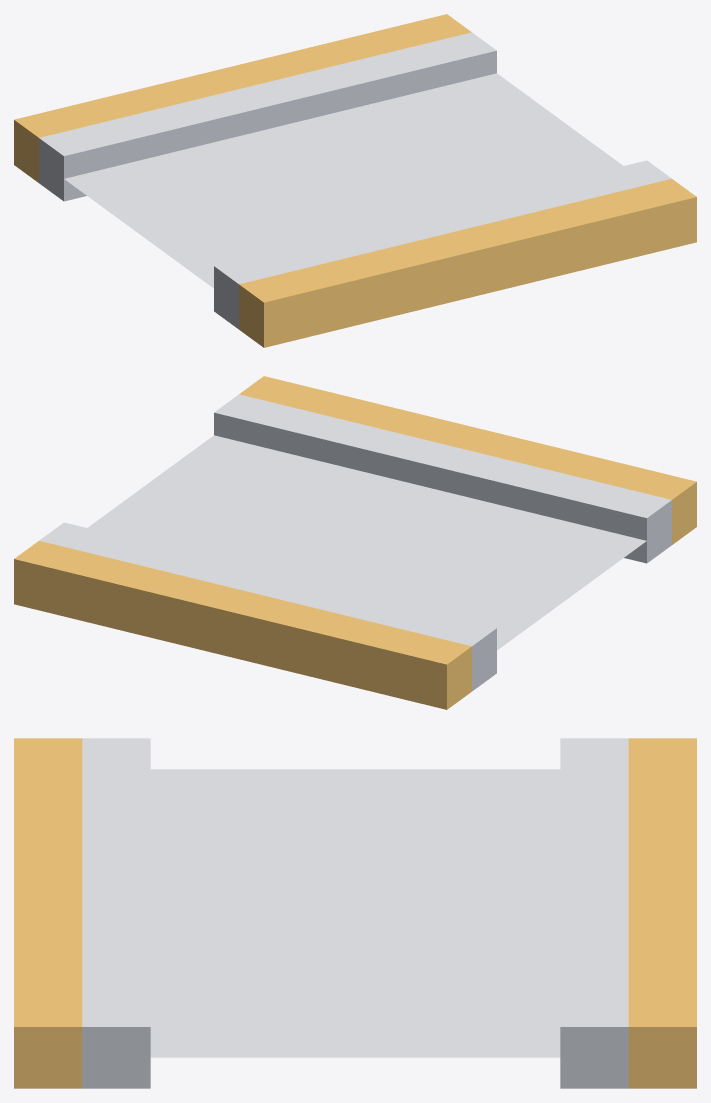
File: platform_straight.glb
3 views of the same model, one above another, from view 1: azimuth 30°, elevation 25°; view 2: azimuth 150°, elevation 25°; view 3: azimuth 270°, elevation 25° (orthographic). The views are drawn at different scales.
Visible parts, largest first — view 1: platform_straight; view 2: platform_straight; view 3: platform_straight.
Part boxes in pixels (x1,y1,x2,y2): platform_straight: (14,14,696,347); platform_straight: (14,376,696,709); platform_straight: (14,738,696,1088).
Size of the model in its own units: 1.3 by 0.13 by 1.3.
